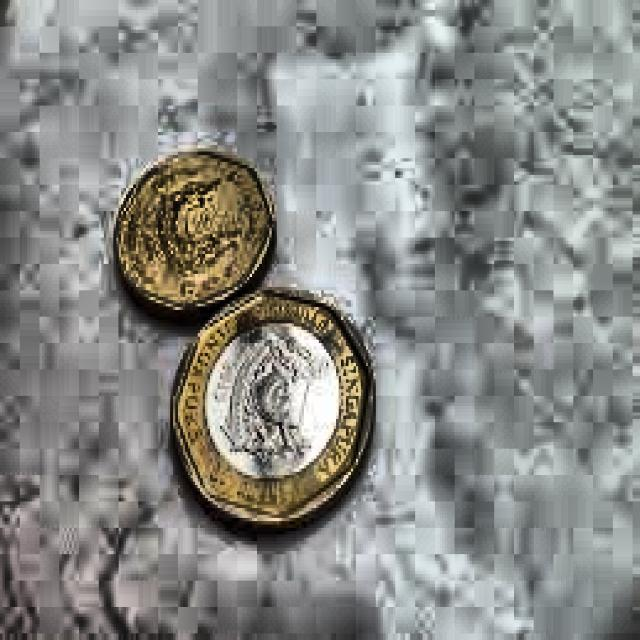coin: (171, 290, 373, 525)
